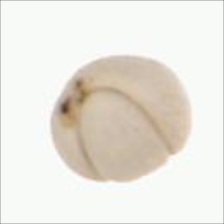L5: (75, 86, 174, 183), (54, 70, 92, 129)
L6: (49, 54, 193, 184)
